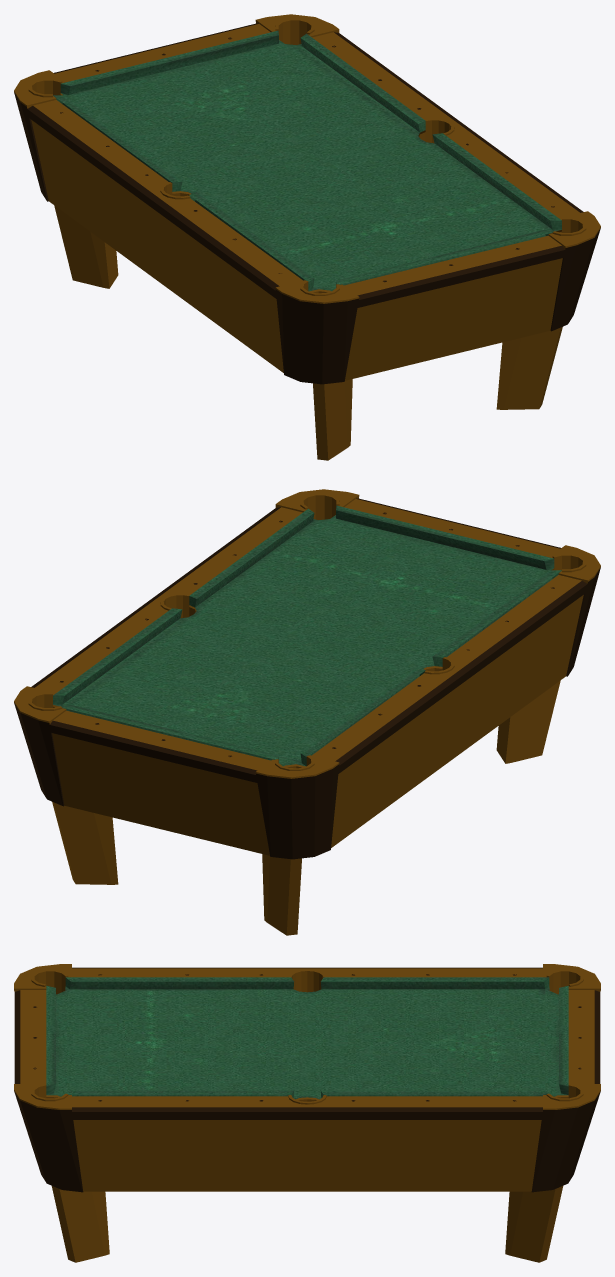
Rendered from pooltable.dae.
The picture shows the model from 3 angles, top to bottom: view 1: azimuth 30°, elevation 25°; view 2: azimuth 150°, elevation 25°; view 3: azimuth 270°, elevation 25°; orthographic projection. The views are drawn at different scales.
Parts seen in each view (by area): view 1: _1_filzmatte, _4_seitenflaechen, _6_holztop, _5_rahmen, _2_beine; view 2: _1_filzmatte, _4_seitenflaechen, _6_holztop, _5_rahmen, _2_beine; view 3: _1_filzmatte, _4_seitenflaechen, _6_holztop, _5_rahmen, _2_beine.
Part boxes in pixels (x1,y1,x2,y2): _1_filzmatte: (53,30,561,291); _4_seitenflaechen: (31,93,562,380); _6_holztop: (14,14,600,303); _5_rahmen: (14,23,600,384); _2_beine: (54,205,562,460); _1_filzmatte: (53,505,561,766); _4_seitenflaechen: (52,568,583,855); _6_holztop: (14,489,600,778); _5_rahmen: (14,498,600,859); _2_beine: (52,680,560,935); _1_filzmatte: (46,977,568,1099); _4_seitenflaechen: (46,1095,568,1191); _6_holztop: (14,964,600,1109); _5_rahmen: (14,967,600,1192); _2_beine: (51,1186,563,1262).
Size of what is drawn, in the model's own units: 33.65 by 19.11 by 57.78.
